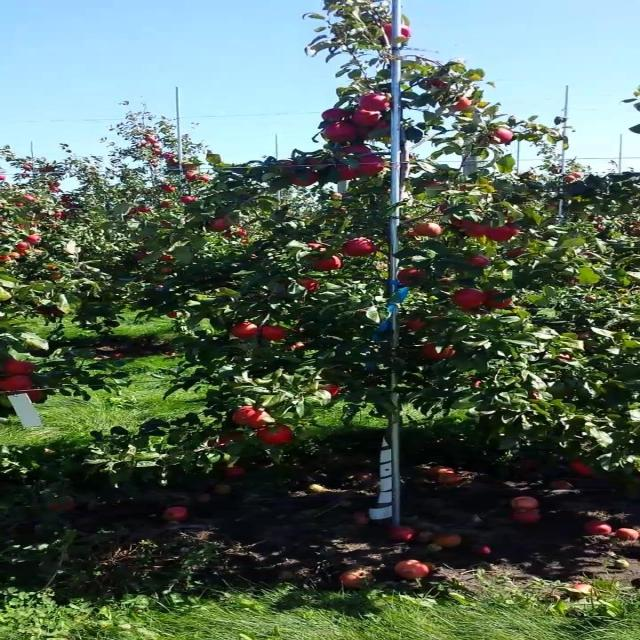apple: (234, 408, 270, 428), (255, 428, 293, 445), (454, 288, 484, 309), (340, 240, 377, 257), (355, 156, 386, 176), (355, 124, 391, 141), (326, 124, 356, 144), (6, 376, 36, 394), (383, 24, 412, 42), (362, 96, 391, 112), (426, 344, 455, 360), (291, 172, 320, 188), (312, 256, 341, 272), (397, 272, 427, 287), (6, 360, 36, 375), (490, 228, 519, 243), (234, 324, 261, 340), (490, 292, 512, 310), (490, 128, 514, 144), (412, 224, 444, 236), (355, 112, 384, 125), (49, 500, 78, 513), (262, 328, 290, 341), (212, 436, 242, 448), (468, 224, 491, 238), (326, 108, 350, 121), (454, 96, 473, 112), (340, 164, 359, 180), (348, 144, 372, 156), (468, 256, 491, 268), (575, 460, 592, 476), (298, 280, 320, 292), (404, 320, 427, 331), (28, 392, 46, 404), (326, 384, 341, 397), (426, 80, 450, 88), (212, 220, 228, 232), (454, 220, 478, 228), (305, 160, 325, 167), (468, 380, 484, 388), (504, 252, 524, 258), (312, 244, 327, 252), (291, 344, 308, 351), (236, 228, 249, 237), (561, 356, 574, 361)
